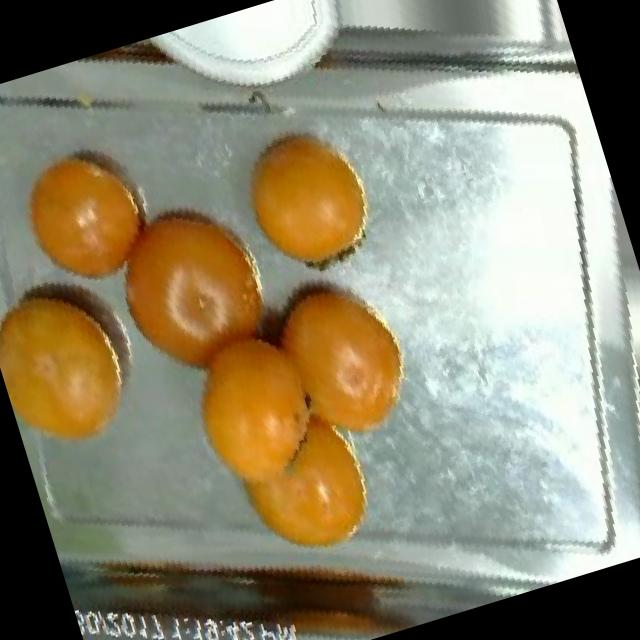Fruit: (73, 144, 314, 412), (237, 228, 448, 481), (208, 90, 404, 310), (210, 387, 406, 590), (0, 111, 189, 320), (0, 241, 163, 478)
